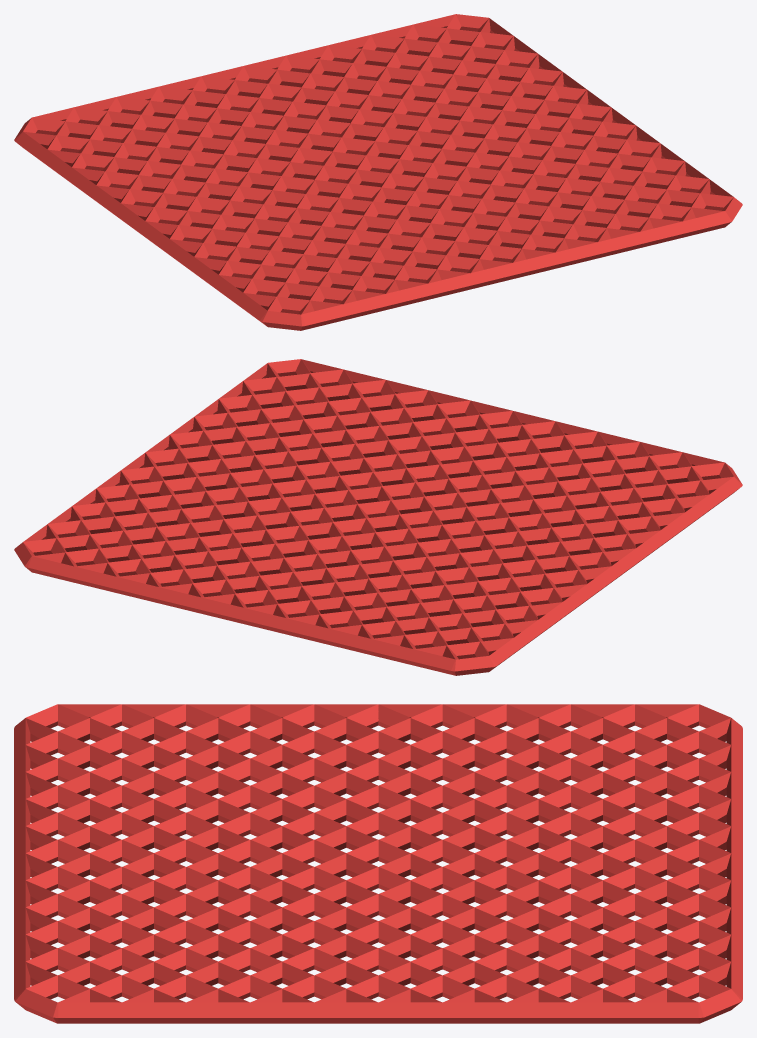
The model's file is GridRamp.fbx.
The picture shows the model from 3 angles, top to bottom: view 1: azimuth 30°, elevation 25°; view 2: azimuth 150°, elevation 25°; view 3: azimuth 270°, elevation 25°; orthographic projection. The views are drawn at different scales.
Visible parts, largest first — view 1: GripRamp; view 2: GripRamp; view 3: GripRamp.
Boxes of the visible parts, left/top/right/bottom form: GripRamp: left=14, top=14, right=742, bottom=330; GripRamp: left=14, top=359, right=742, bottom=675; GripRamp: left=14, top=704, right=742, bottom=1023.
Bounding box in the file's own units: 2.07 × 0.067 × 2.07.
